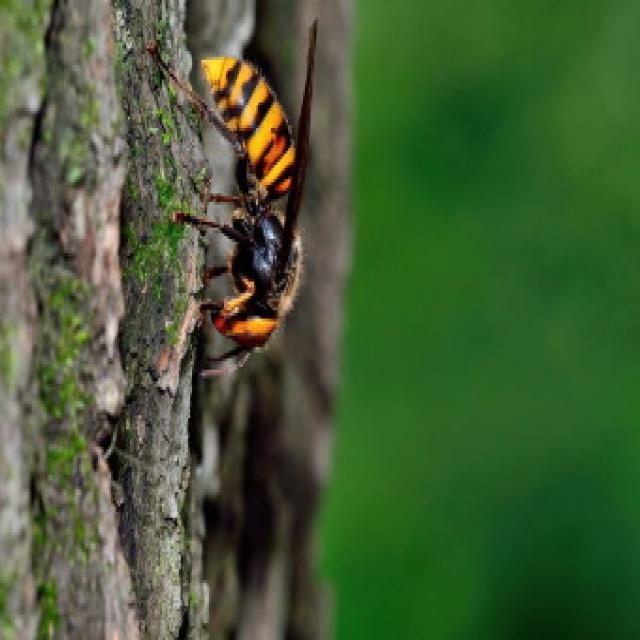Wasp: (147, 8, 323, 380)
